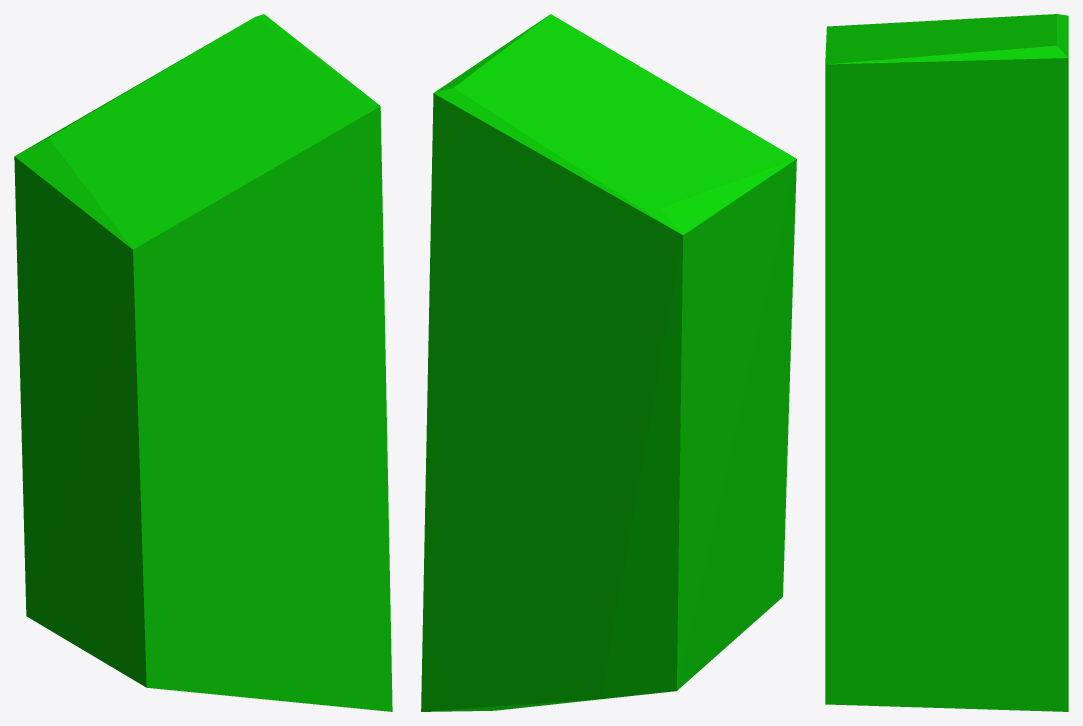
File: pent_convex_piece_008.obj
3 views of the same model, side by side, from view 1: azimuth 30°, elevation 25°; view 2: azimuth 150°, elevation 25°; view 3: azimuth 270°, elevation 25° (orthographic). The views are drawn at different scales.
Bounding box in the file's own units: 0.0348 × 0.0796 × 0.0269.
